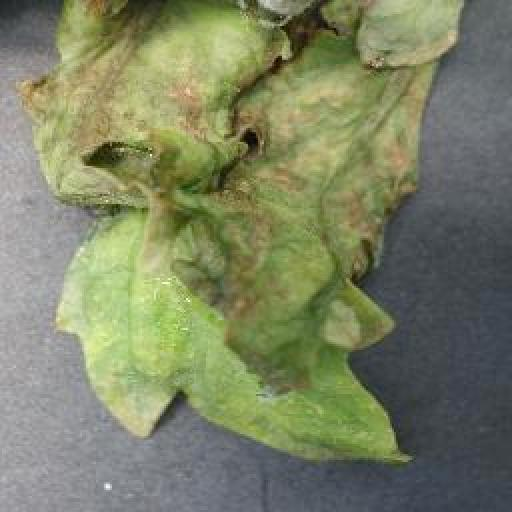disease_tomato: (14, 0, 462, 468)
